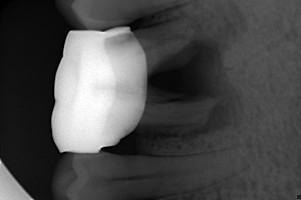Dental Caries: (148, 38, 239, 138)
